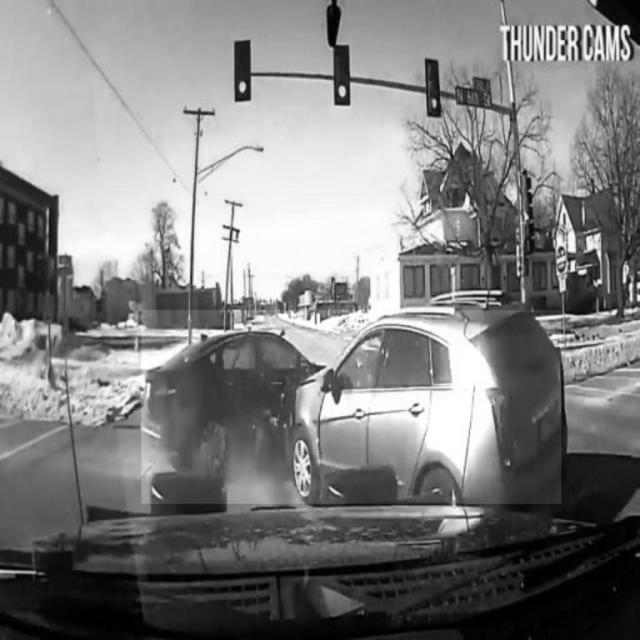accident: (142, 310, 562, 504)
